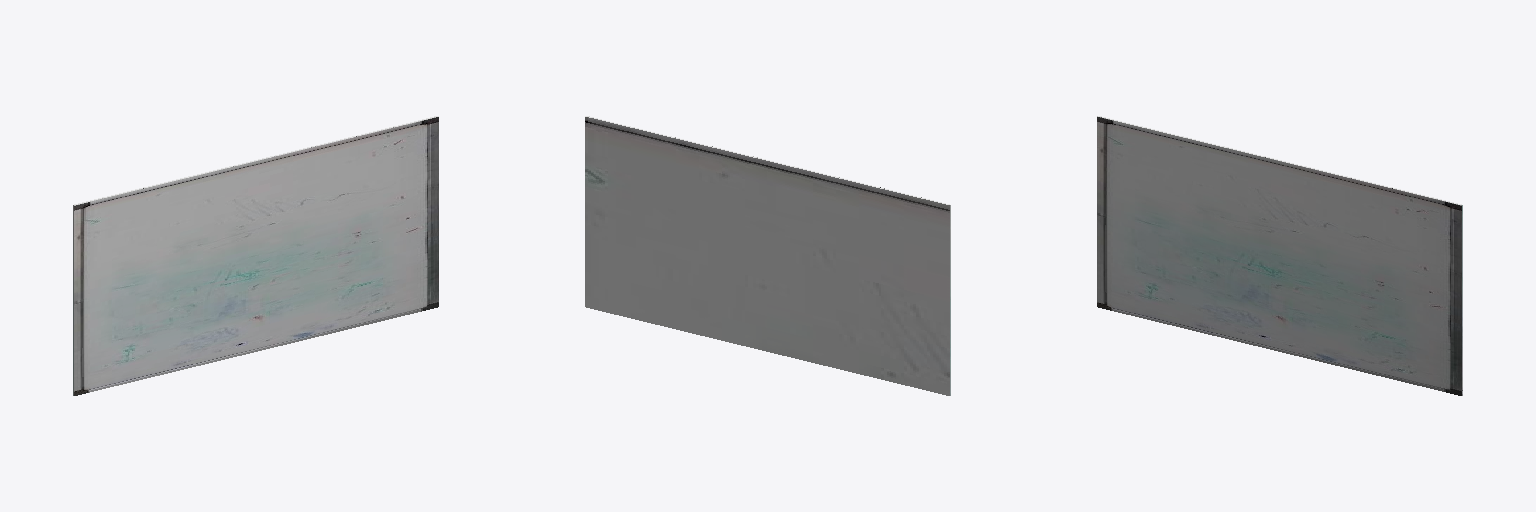
3 renders of one model, left to right at view 1: azimuth 30°, elevation 25°; view 2: azimuth 150°, elevation 25°; view 3: azimuth 330°, elevation 25°, orthographic.
Visible parts, largest first — view 1: Cube; view 2: Cube; view 3: Cube.
Part boxes in pixels (bbox=[...]): Cube: bbox=[73, 116, 438, 395]; Cube: bbox=[585, 116, 950, 395]; Cube: bbox=[1097, 116, 1462, 395].
Bounding box in the file's own units: 8.86 × 4.43 × 0.0443.
Materials: 1 (1 with a texture image).